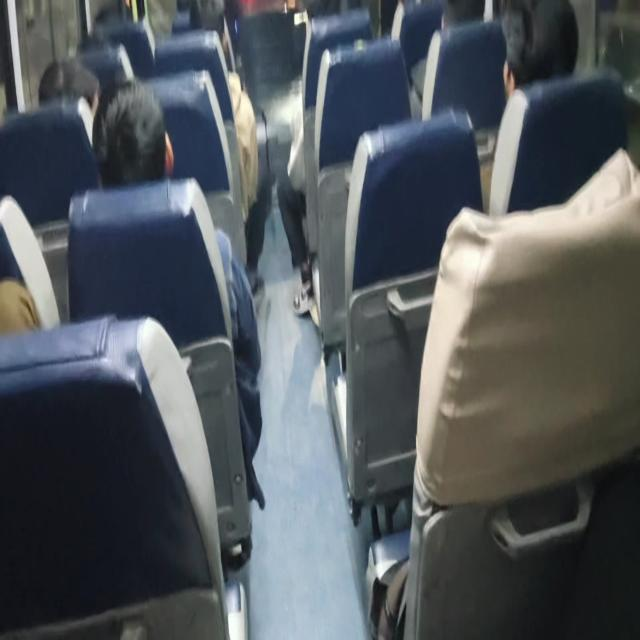person: (91, 77, 266, 509), (486, 0, 580, 214), (409, 0, 486, 120), (91, 77, 174, 187), (499, 0, 579, 101), (38, 56, 100, 145), (0, 276, 41, 334)
